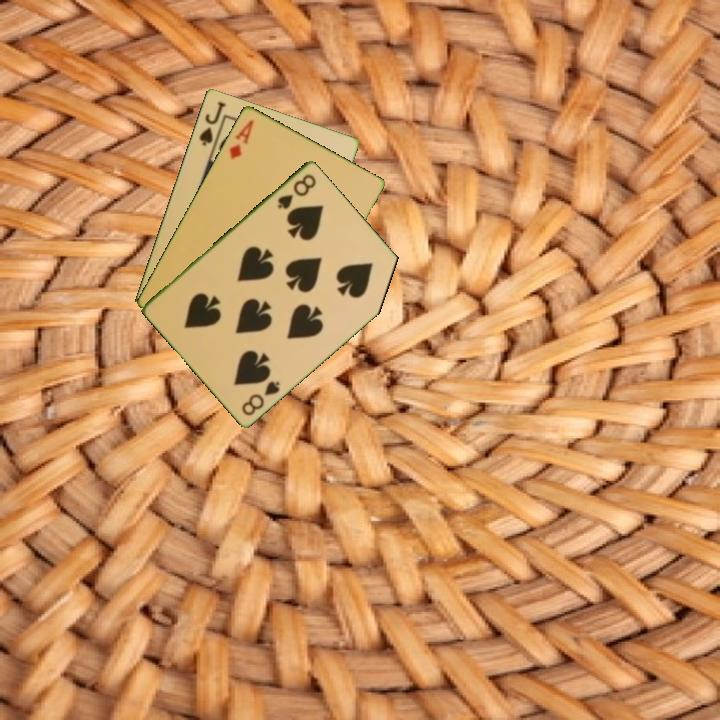8s: (273, 170, 319, 212), (238, 377, 283, 418)
Ad: (225, 116, 257, 162)
Js: (195, 97, 229, 149)
